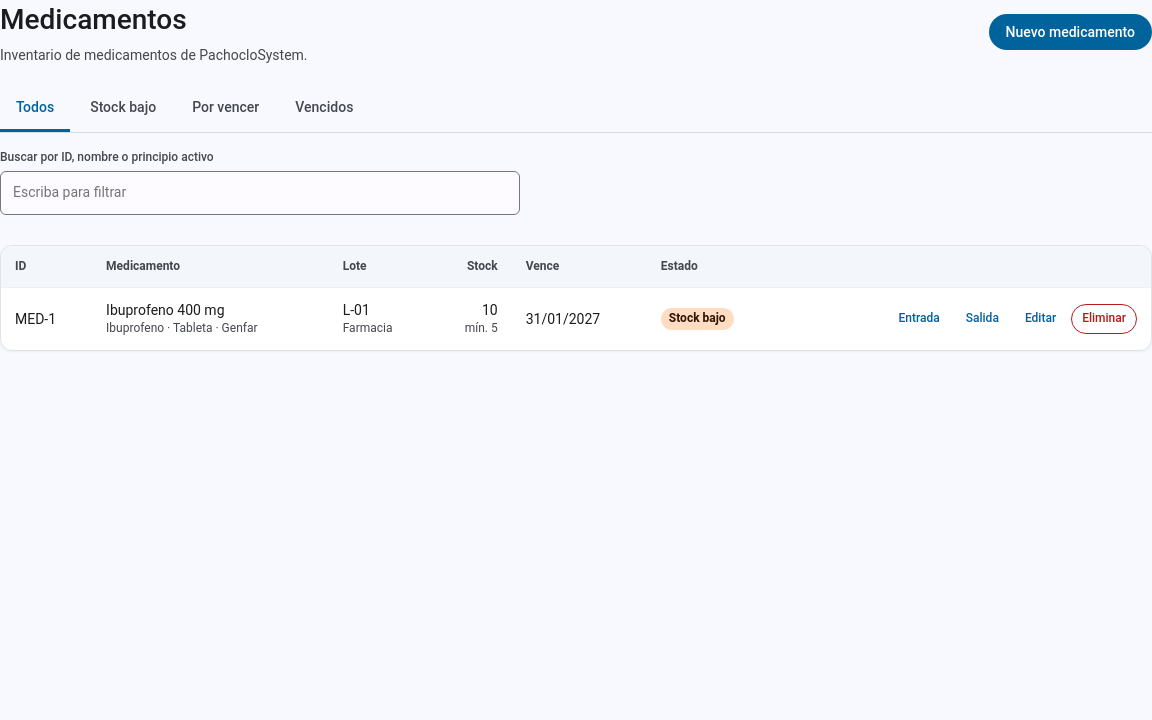
Test: interfaz React de medicamentos › registra una salida con clave de idempotencia
Expected: the text "Ibuprofeno 400 mg" is shown, [106,302,224,318]
Click the button with aria-label "Salida de stock de Ibuprofeno 400 mg" at (982, 319), box [955,304,1010,334]
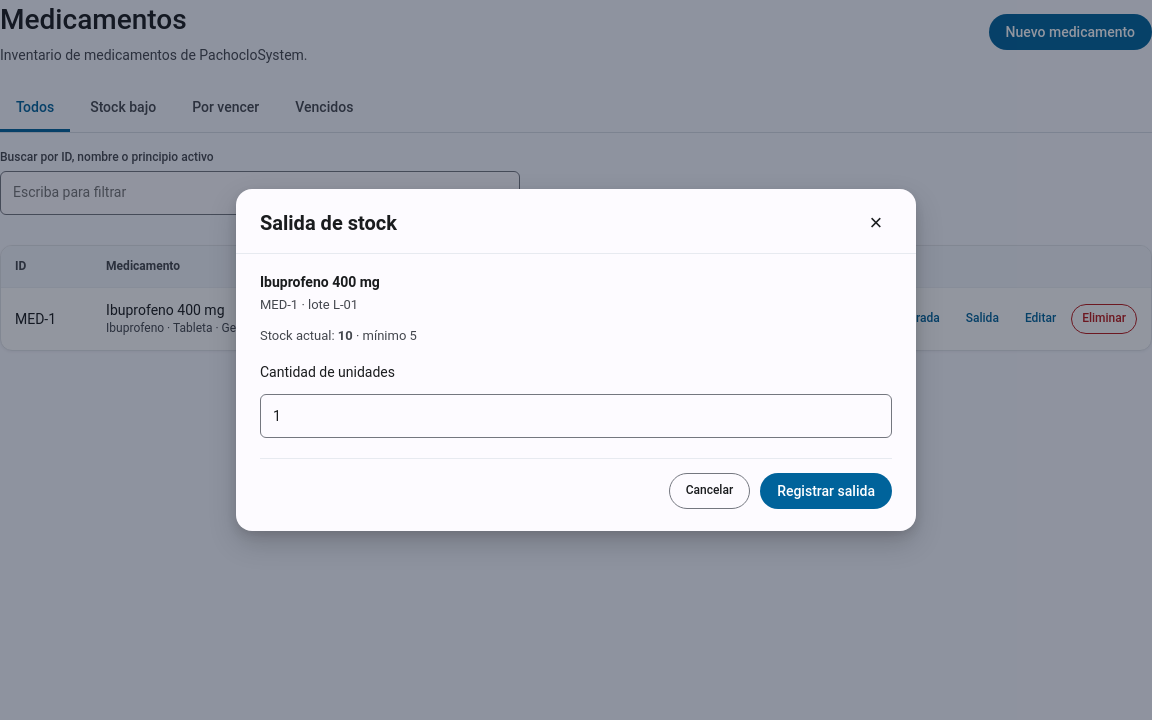
Replace the text in the field labelled "Cantidad de unidades" with "3" at (576, 416), box [260,394,892,438]
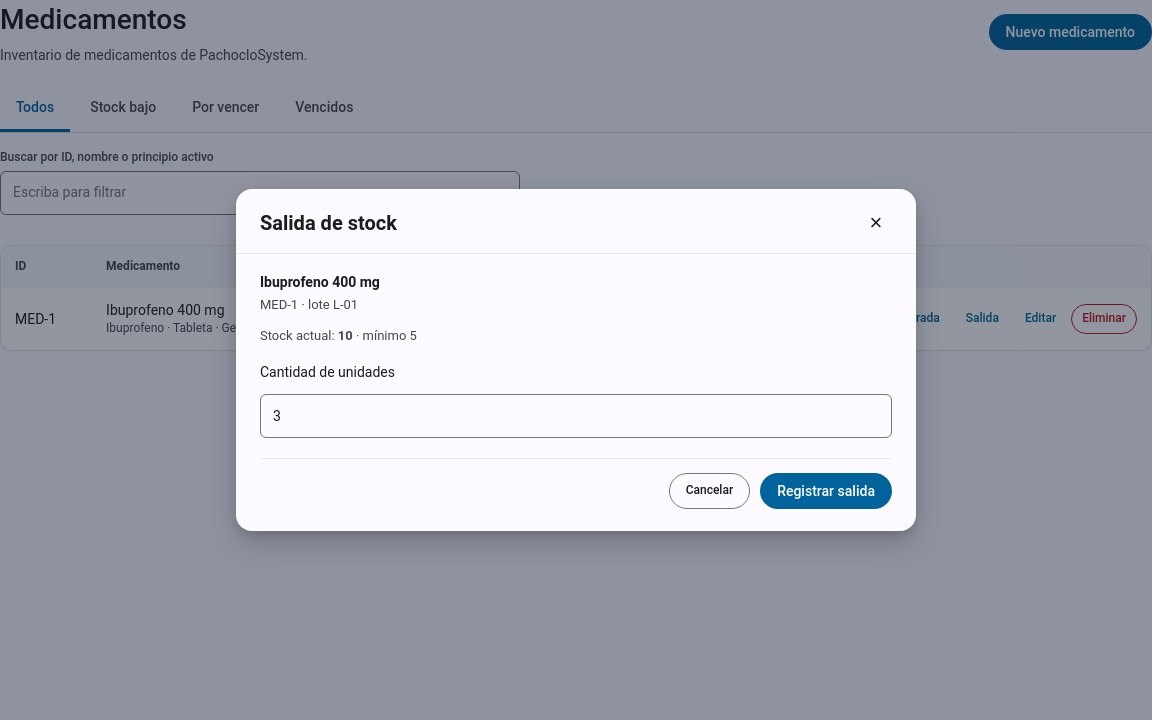
Click the button "Registrar salida" at (826, 491), box [760,473,892,509]
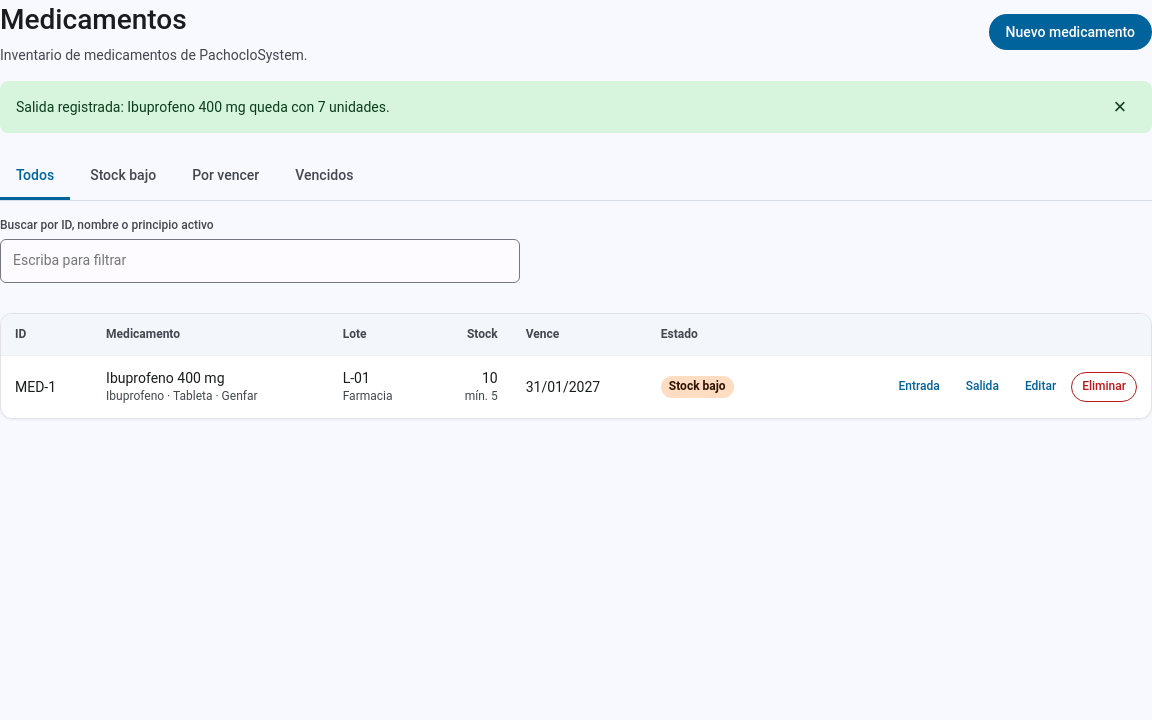
Expected: the text "Salida registrada: Ibuprofeno 400 mg queda con 7 unidades." is shown, [16,97,390,117]
